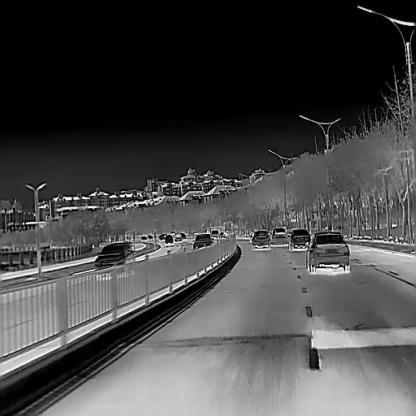car: (305, 230, 350, 273), (93, 242, 136, 276), (288, 228, 311, 250), (251, 229, 270, 250), (192, 232, 212, 250), (270, 226, 288, 244), (163, 233, 174, 244), (174, 232, 182, 242)
